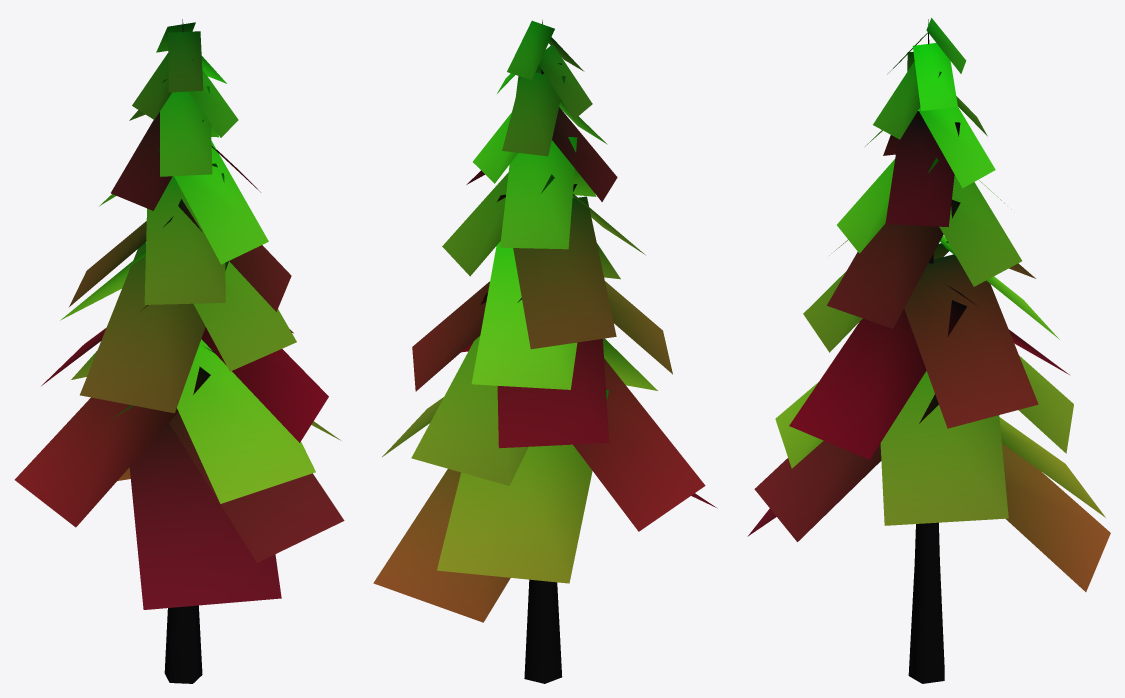
Rendered from SuperPine_1_6.fbx.
The picture shows the model from 3 angles, left to right: view 1: azimuth 30°, elevation 25°; view 2: azimuth 150°, elevation 25°; view 3: azimuth 270°, elevation 25°; orthographic projection.
Parts seen in each view (by area): view 1: SuperPine_1_6; view 2: SuperPine_1_6; view 3: SuperPine_1_6.
Boxes of the visible parts, left/top/right/bottom form: SuperPine_1_6: left=14, top=19, right=344, bottom=683; SuperPine_1_6: left=373, top=20, right=717, bottom=683; SuperPine_1_6: left=747, top=18, right=1110, bottom=683.
Bounding box in the file's own units: 345 × 800 × 399.
